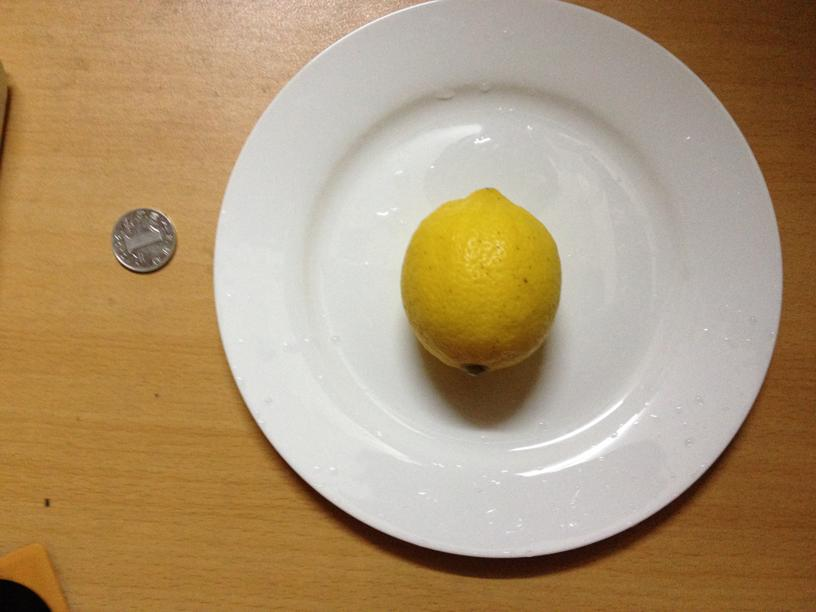coin: (111, 206, 176, 274)
lemon: (405, 180, 562, 376)
